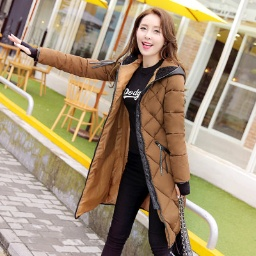face: (117, 6, 185, 74)
